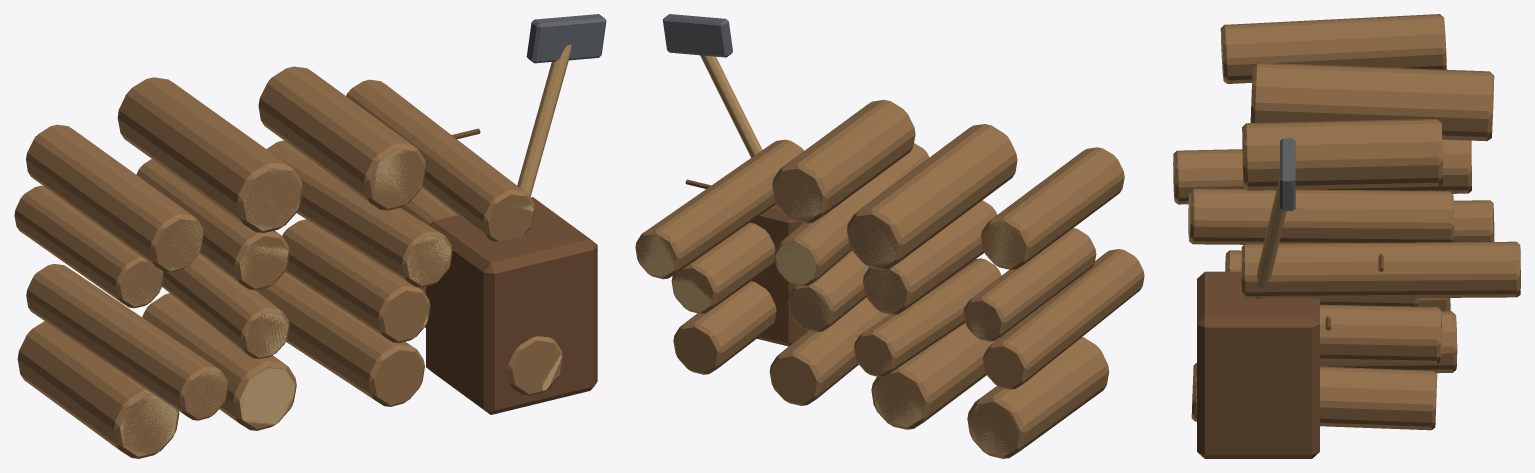
Rendered from runtime.glb.
The picture shows the model from 3 angles, left to right: view 1: azimuth 30°, elevation 25°; view 2: azimuth 150°, elevation 25°; view 3: azimuth 270°, elevation 25°; orthographic projection. The views are drawn at different scales.
Parts seen in each view (by area): view 1: falkenwacht-woodpile-v06_nocol; view 2: falkenwacht-woodpile-v06_nocol; view 3: falkenwacht-woodpile-v06_nocol.
Part boxes in pixels (left/top/right/bottom): falkenwacht-woodpile-v06_nocol: left=14, top=14, right=606, bottom=458; falkenwacht-woodpile-v06_nocol: left=635, top=14, right=1144, bottom=458; falkenwacht-woodpile-v06_nocol: left=1173, top=14, right=1520, bottom=458.
Size of the model in its own units: 2.4 by 1.56 by 1.56.
